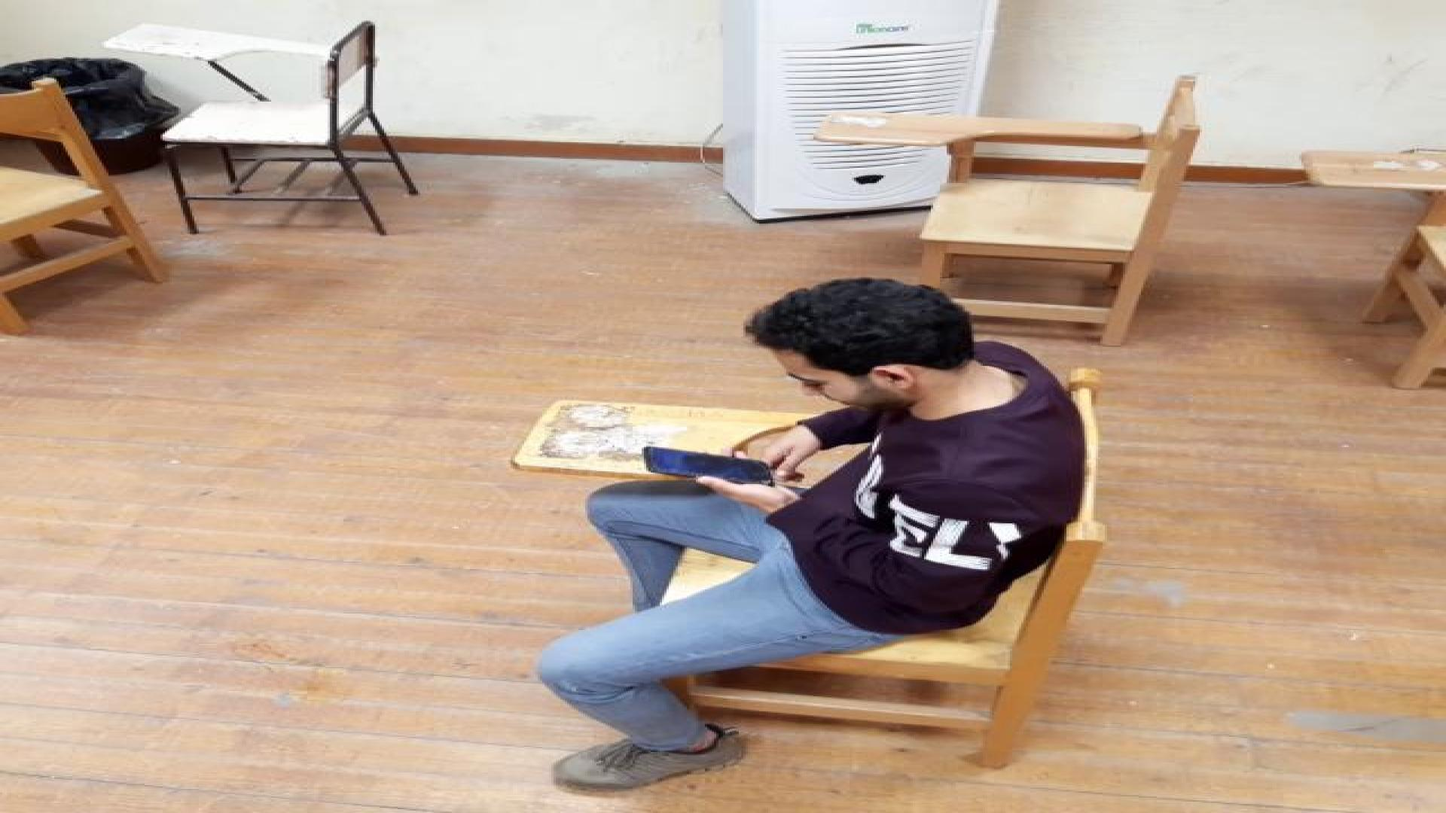phone: (644, 445, 784, 483)
